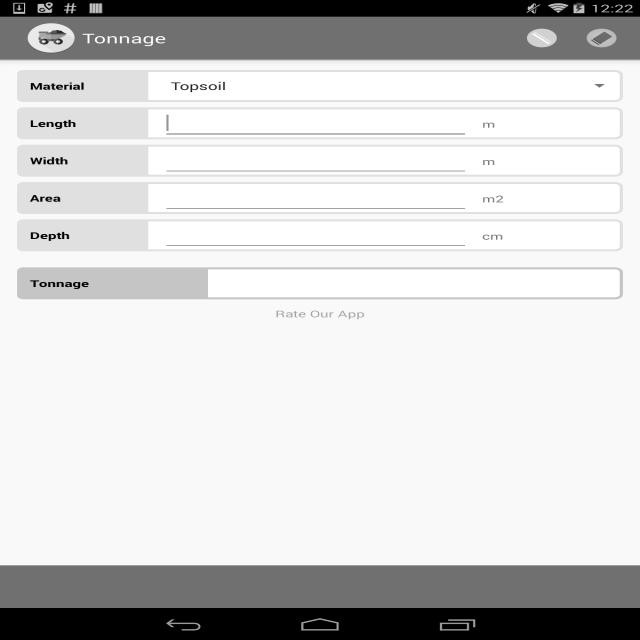EditText: (162, 144, 469, 177), (162, 108, 469, 140), (162, 182, 469, 214), (162, 220, 469, 252)
ImageView: (26, 22, 76, 54)
Spinner: (162, 70, 610, 102)
TextView: (205, 268, 623, 300), (17, 299, 623, 320), (162, 79, 593, 93), (17, 268, 205, 300), (469, 182, 623, 215), (469, 108, 623, 140), (469, 146, 623, 178), (469, 220, 623, 252), (17, 144, 145, 177), (17, 70, 145, 102), (17, 108, 145, 140), (17, 182, 145, 214), (17, 220, 145, 252), (512, 22, 572, 54), (572, 22, 631, 54), (77, 29, 166, 47)
